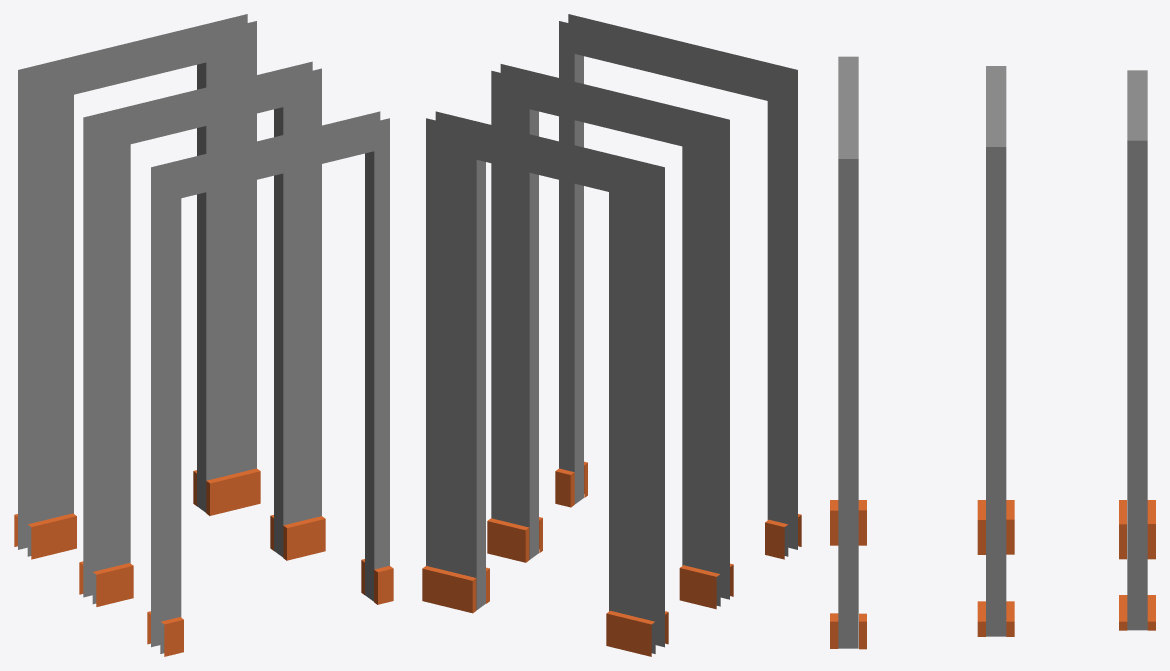
Rendered from ModuleE_doorframe2.FBX.
The picture shows the model from 3 angles, left to right: view 1: azimuth 30°, elevation 25°; view 2: azimuth 150°, elevation 25°; view 3: azimuth 270°, elevation 25°; orthographic projection. The views are drawn at different scales.
Visible parts, largest first — view 1: Interior_door_a001, Interior_door_a002, Interior_door_a003, Interior_doorskb_06, Interior_doorskb_05, Interior_doorskb_04; view 2: Interior_door_a001, Interior_door_a002, Interior_door_a003, Interior_doorskb_06, Interior_doorskb_05, Interior_doorskb_04; view 3: Interior_door_a003, Interior_door_a002, Interior_door_a001, Interior_doorskb_06, Interior_doorskb_05, Interior_doorskb_04.
Part boxes in pixels (bbox=[...]): Interior_door_a001: bbox=[18, 14, 256, 556]; Interior_door_a002: bbox=[83, 61, 321, 604]; Interior_door_a003: bbox=[151, 111, 389, 653]; Interior_doorskb_06: bbox=[14, 468, 260, 559]; Interior_doorskb_05: bbox=[79, 515, 325, 606]; Interior_doorskb_04: bbox=[147, 559, 393, 656]; Interior_door_a001: bbox=[426, 111, 664, 653]; Interior_door_a002: bbox=[491, 64, 729, 606]; Interior_door_a003: bbox=[559, 14, 797, 556]; Interior_doorskb_06: bbox=[422, 566, 668, 656]; Interior_doorskb_05: bbox=[487, 517, 733, 609]; Interior_doorskb_04: bbox=[555, 461, 801, 559]; Interior_door_a003: bbox=[838, 56, 858, 648]; Interior_door_a002: bbox=[986, 66, 1006, 636]; Interior_door_a001: bbox=[1127, 70, 1147, 630]; Interior_doorskb_06: bbox=[1119, 500, 1155, 630]; Interior_doorskb_05: bbox=[977, 500, 1014, 636]; Interior_doorskb_04: bbox=[830, 500, 866, 649].
Size of the model in its own units: 39.37 by 44.62 by 78.8.
